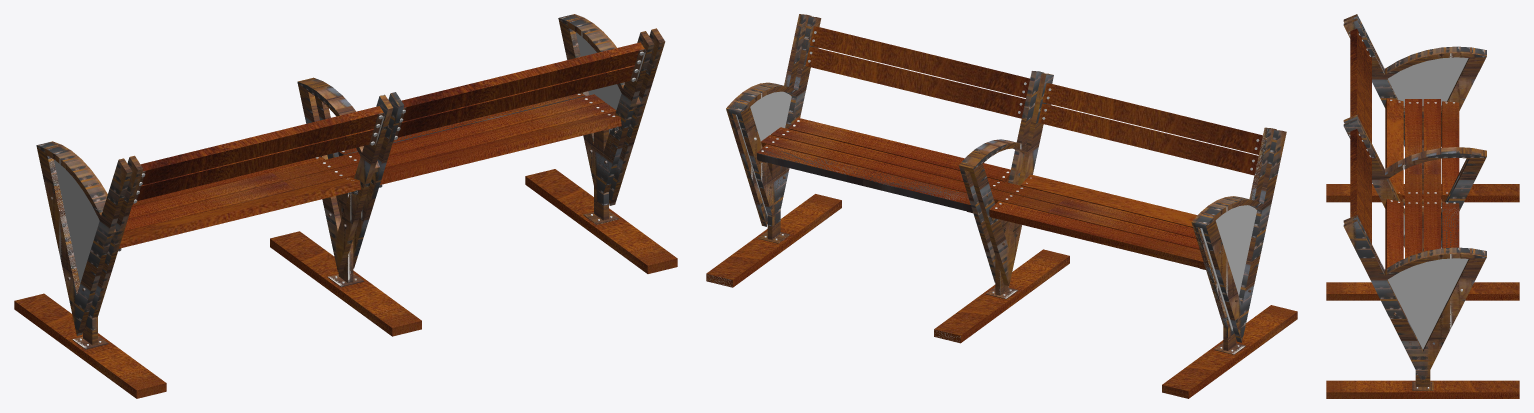
3 views of the same model, side by side, from view 1: azimuth 30°, elevation 25°; view 2: azimuth 150°, elevation 25°; view 3: azimuth 270°, elevation 25° (orthographic). The views are drawn at different scales.
Parts seen in each view (by area): view 1: mesh102_mesh102-geometry, mesh57_mesh57-geometry, mesh222_mesh222-geometry, mesh23_mesh23-geometry, mesh25_mesh25-geometry, mesh14_mesh14-geometry, mesh31_mesh31-geometry, mesh9_mesh9-geometry, mesh7_mesh7-geometry, mesh1_mesh1-geometry, mesh16_mesh16-geometry, mesh21_mesh21-geometry (+6 smaller); view 2: mesh102_mesh102-geometry, mesh57_mesh57-geometry, mesh222_mesh222-geometry, mesh14_mesh14-geometry, mesh31_mesh31-geometry, mesh33_mesh33-geometry, mesh29_mesh29-geometry, mesh25_mesh25-geometry, mesh23_mesh23-geometry, mesh17_mesh17-geometry, mesh27_mesh27-geometry, mesh1_mesh1-geometry (+6 smaller); view 3: mesh57_mesh57-geometry, mesh106_mesh106-geometry, mesh9_mesh9-geometry, mesh222_mesh222-geometry, mesh102_mesh102-geometry, mesh23_mesh23-geometry, mesh25_mesh25-geometry, mesh108_mesh108-geometry, mesh7_mesh7-geometry, mesh1_mesh1-geometry, mesh16_mesh16-geometry, mesh17_mesh17-geometry (+6 smaller).
Boxes of the visible parts, box(x1,y1,x2,y2) form: mesh102_mesh102-geometry: box(36, 141, 143, 345); mesh57_mesh57-geometry: box(558, 14, 665, 224); mesh222_mesh222-geometry: box(297, 77, 404, 272); mesh23_mesh23-geometry: box(124, 103, 616, 231); mesh25_mesh25-geometry: box(128, 94, 605, 219); mesh14_mesh14-geometry: box(402, 42, 644, 121); mesh31_mesh31-geometry: box(140, 106, 383, 185); mesh9_mesh9-geometry: box(525, 169, 677, 273); mesh7_mesh7-geometry: box(270, 231, 421, 336); mesh1_mesh1-geometry: box(14, 293, 166, 398); mesh16_mesh16-geometry: box(119, 177, 360, 248); mesh21_mesh21-geometry: box(380, 113, 621, 184); mesh102_mesh102-geometry: box(1191, 127, 1286, 350); mesh57_mesh57-geometry: box(726, 14, 821, 243); mesh222_mesh222-geometry: box(958, 71, 1053, 285); mesh14_mesh14-geometry: box(809, 26, 1029, 97); mesh31_mesh31-geometry: box(1042, 83, 1262, 154); mesh33_mesh33-geometry: box(1038, 103, 1258, 175); mesh29_mesh29-geometry: box(805, 47, 1025, 118); mesh25_mesh25-geometry: box(761, 135, 1199, 249); mesh23_mesh23-geometry: box(771, 127, 1196, 238); mesh17_mesh17-geometry: box(989, 201, 1205, 269); mesh27_mesh27-geometry: box(757, 144, 972, 212); mesh1_mesh1-geometry: box(1162, 305, 1297, 398); mesh57_mesh57-geometry: box(1343, 215, 1486, 390); mesh106_mesh106-geometry: box(1388, 258, 1468, 349); mesh9_mesh9-geometry: box(1326, 380, 1519, 398); mesh222_mesh222-geometry: box(1343, 114, 1486, 252); mesh102_mesh102-geometry: box(1343, 14, 1486, 190); mesh23_mesh23-geometry: box(1405, 99, 1422, 258); mesh25_mesh25-geometry: box(1423, 99, 1440, 251); mesh108_mesh108-geometry: box(1388, 57, 1468, 105); mesh7_mesh7-geometry: box(1326, 282, 1519, 300); mesh1_mesh1-geometry: box(1326, 184, 1519, 202); mesh16_mesh16-geometry: box(1385, 98, 1403, 201); mesh17_mesh17-geometry: box(1441, 101, 1459, 201).
Size of the model in its own units: 0.8737 by 0.3462 by 0.3418.
